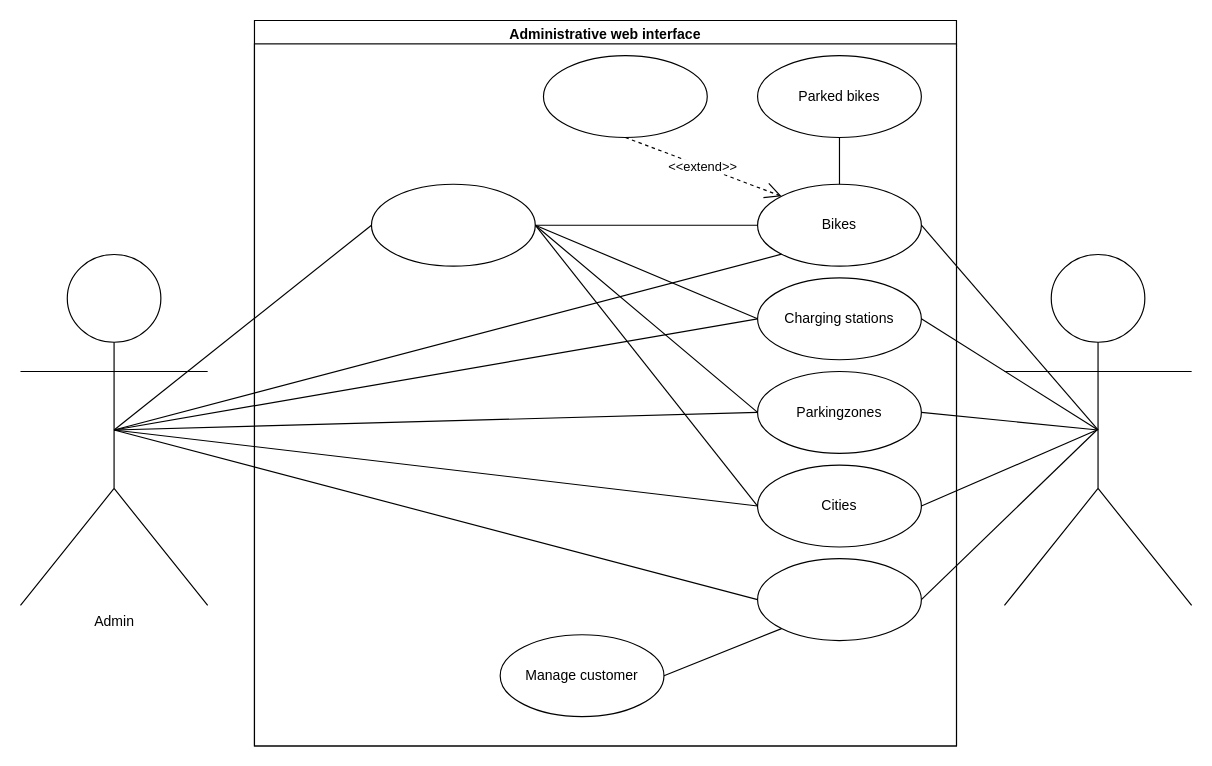
This 1212x766 diagram has some shape labels left out. The shapes that lost their labels are listed below. From the top down, each one's centre as x and y in pixels, then its label:
point 624,95: Call service
point 452,224: View map
point 1097,429: API
point 838,599: Customers
